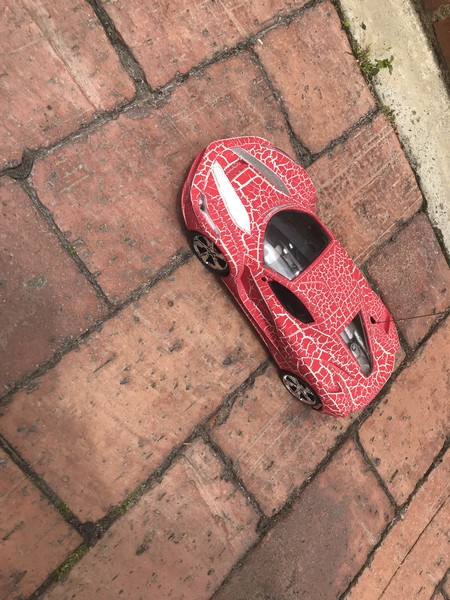RC: (178, 134, 401, 418)
